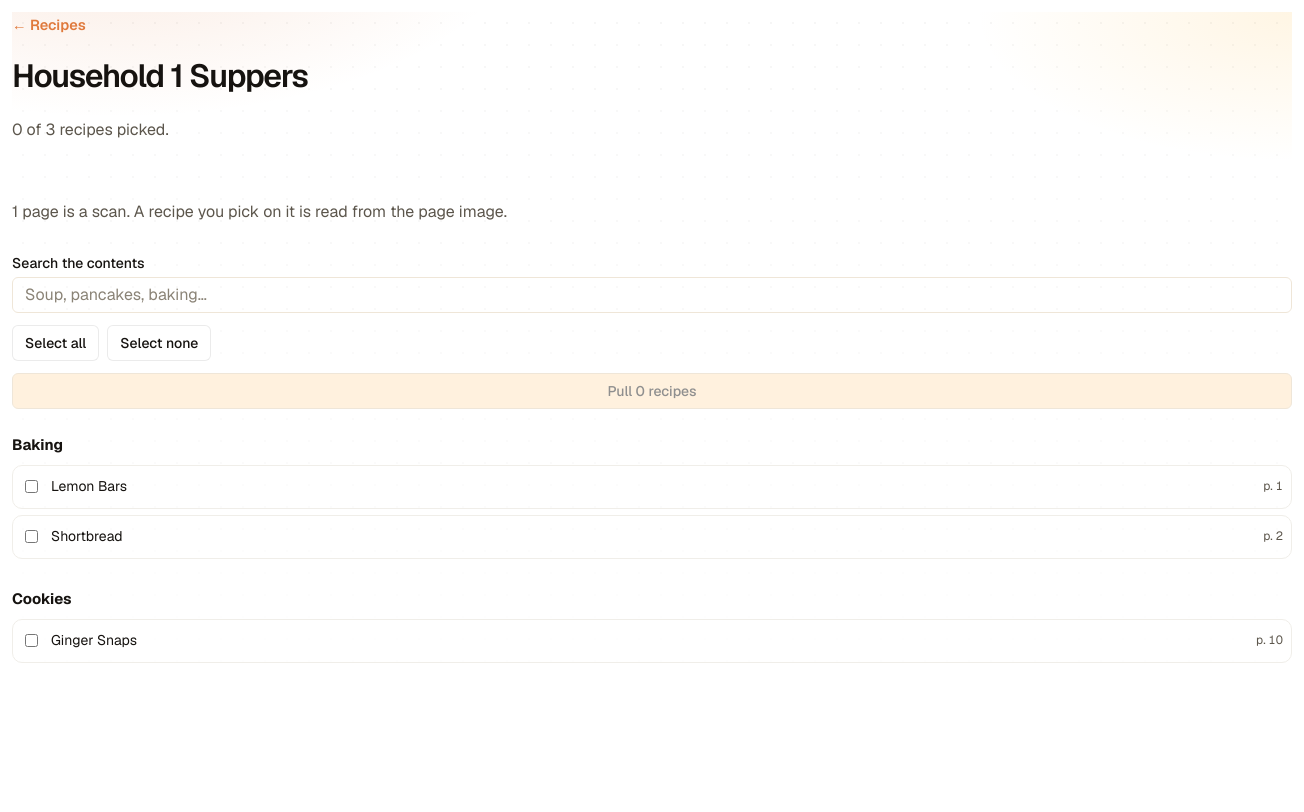
BookContents picks › filters the list from the search Input
Type "ginger" into the search field labelled "Search the contents". click: (652, 295)
box: [12,277,1292,313]
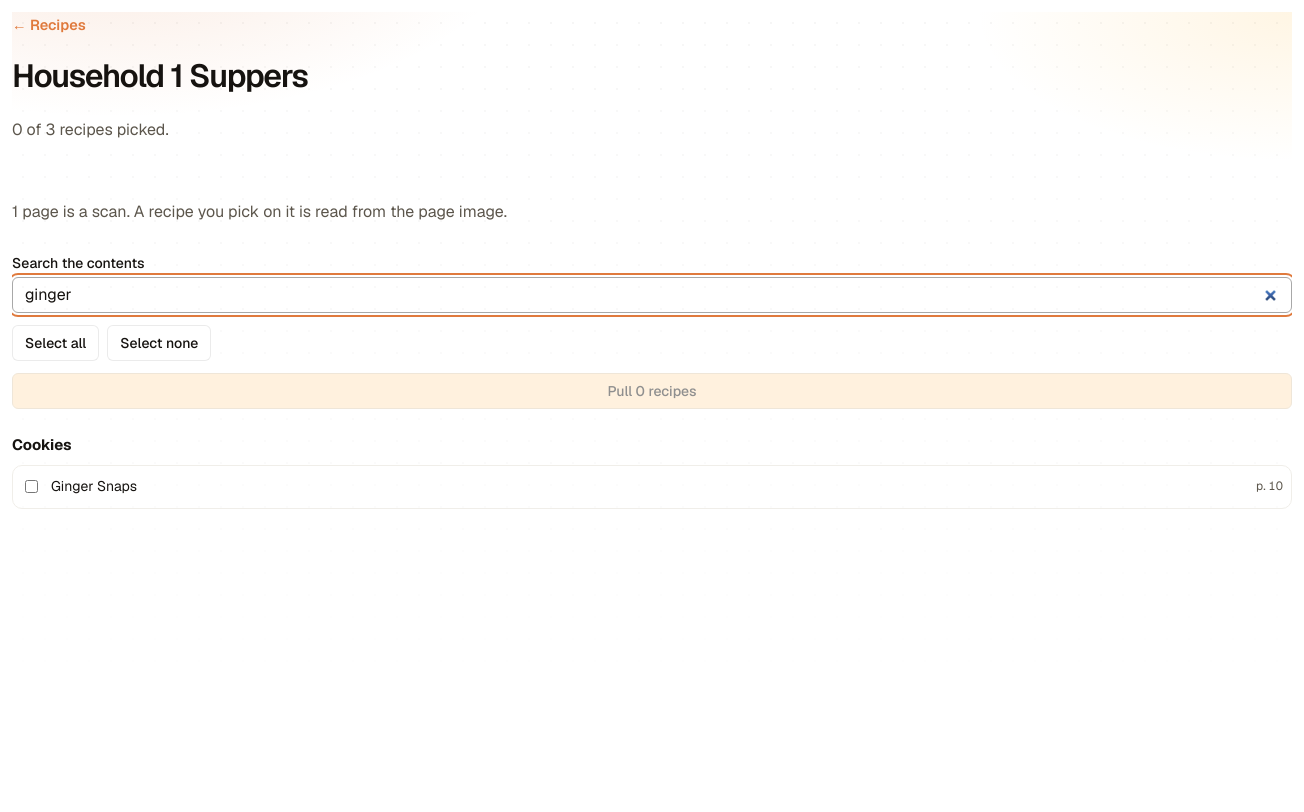
Check: the text "Lemon Bars" is gone
Replace the text in the search field labelled "Search the contents" with "no such recipe". click: (652, 295)
box: [12,277,1292,313]
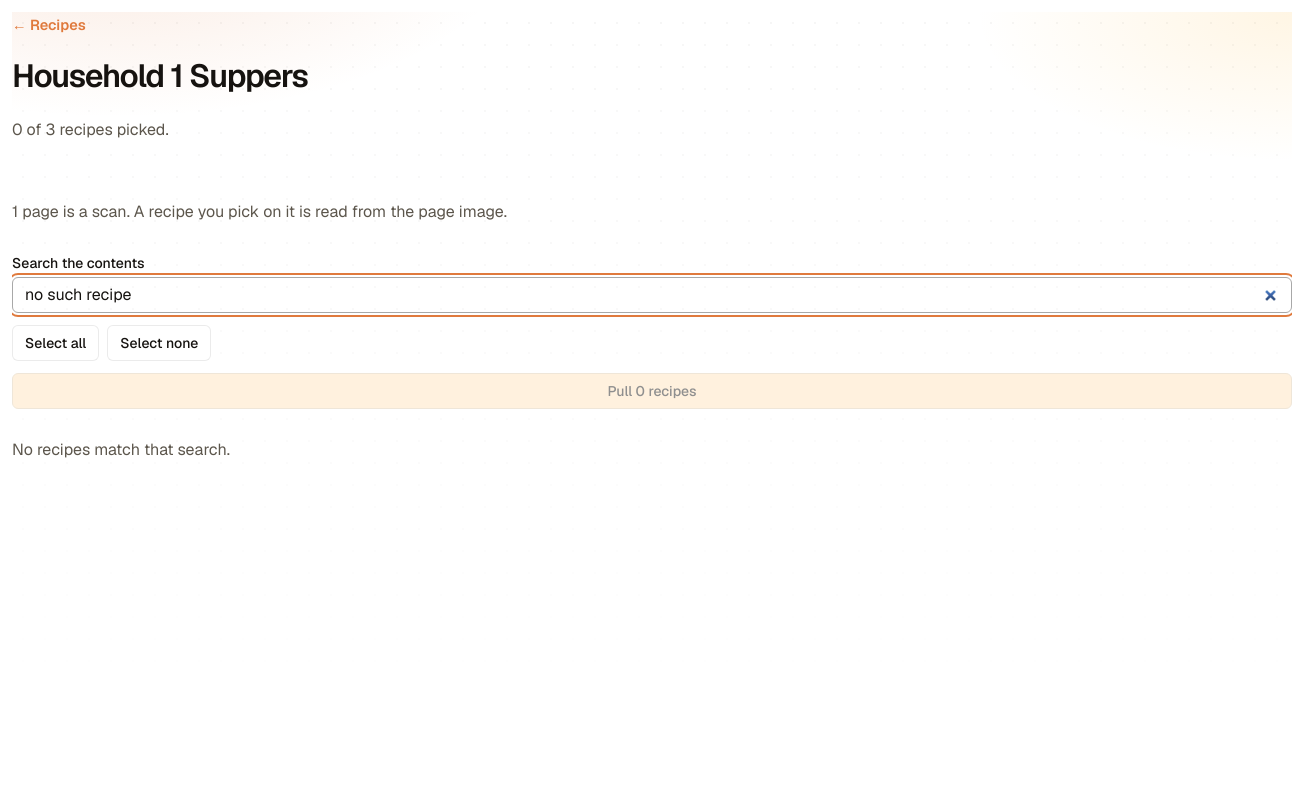
Check: the text "No recipes match that search." is shown, box [12,439,230,460]
Check: the checkbox is gone
